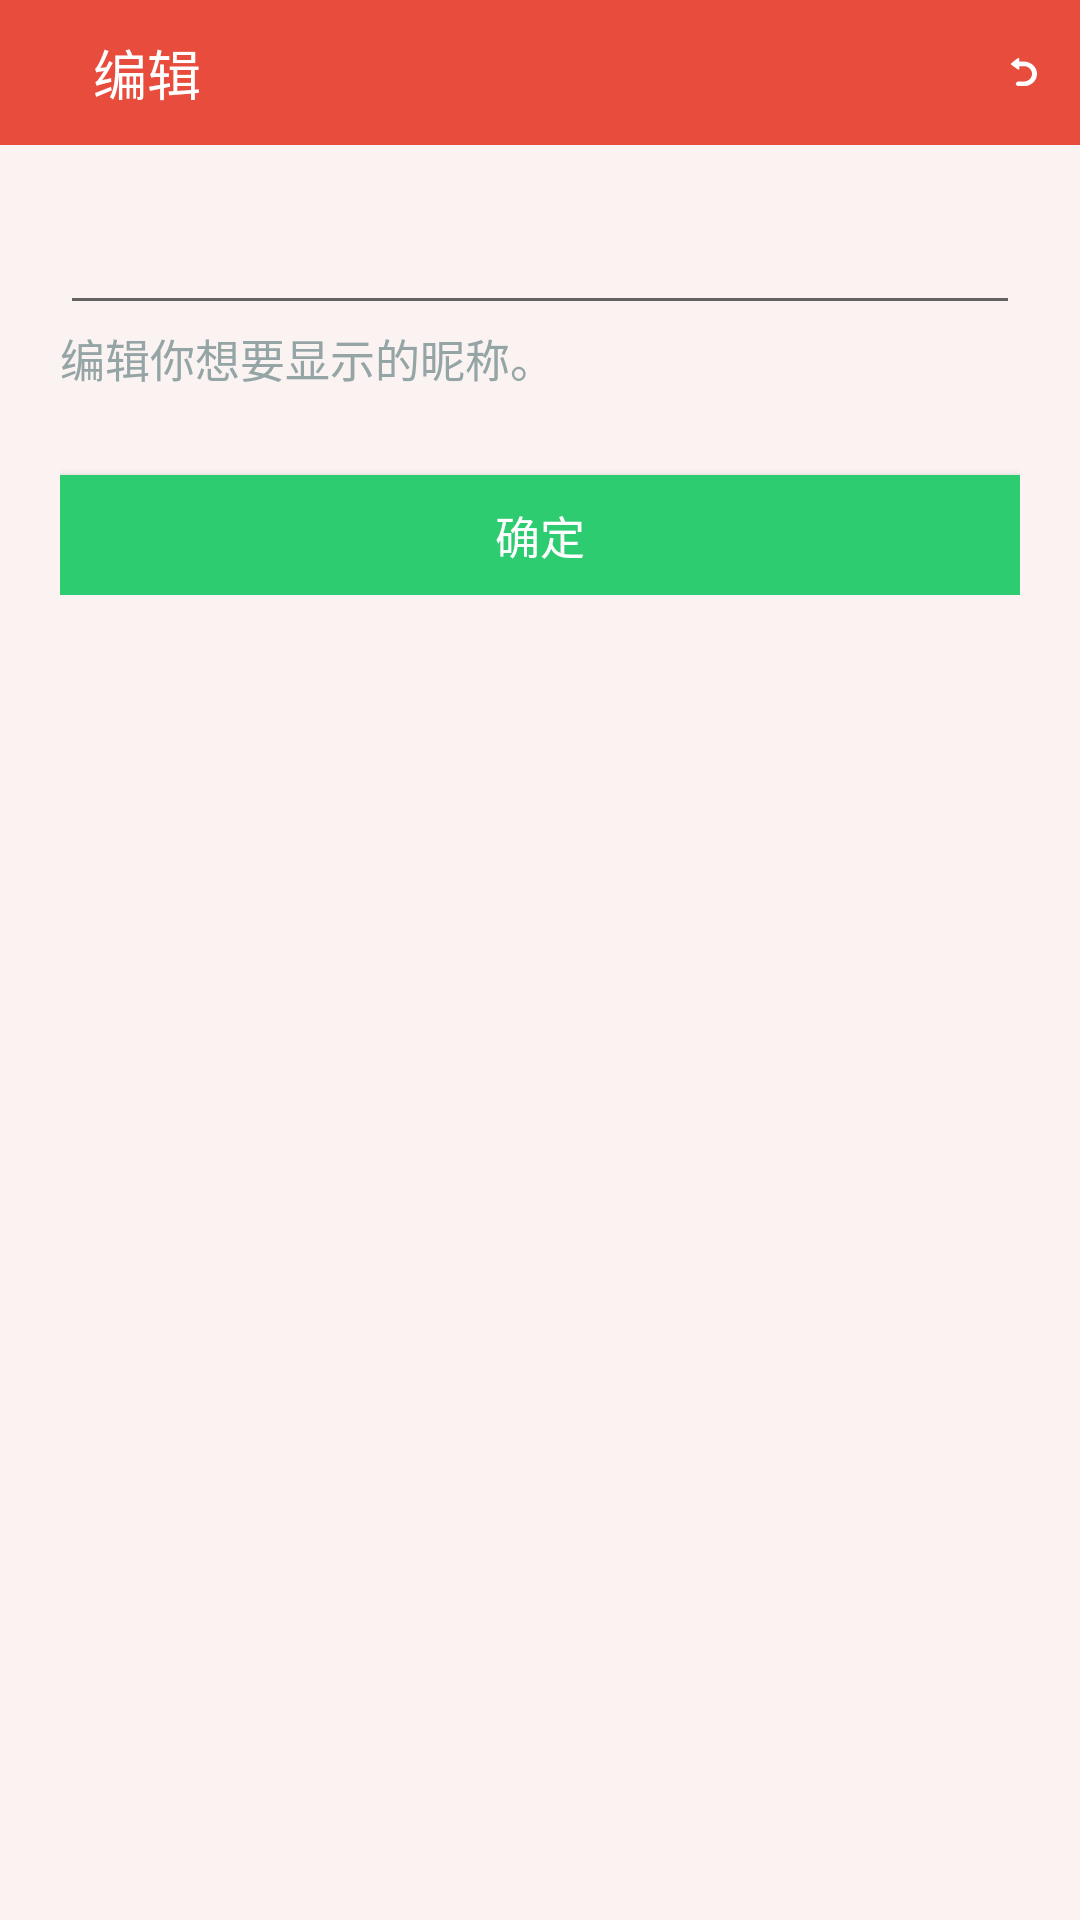

Where icons sit on this 1080px×1920px app screen, as (x1, y1, x2, y2):
back: (1011, 58, 1037, 86)
